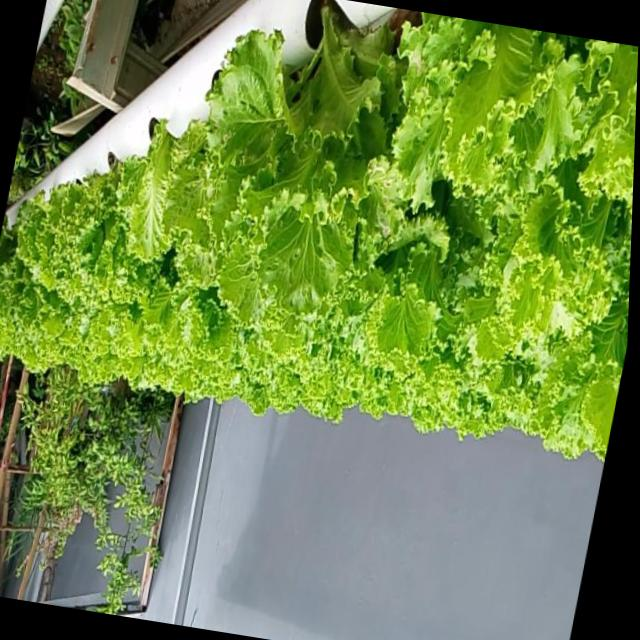Mature: (164, 0, 406, 323), (35, 156, 152, 314)
